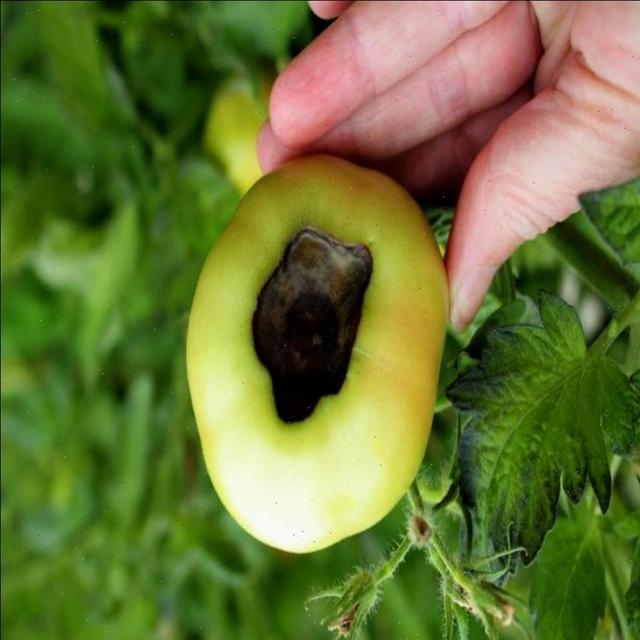Blossom End Rot Fruit: (166, 150, 252, 289)
